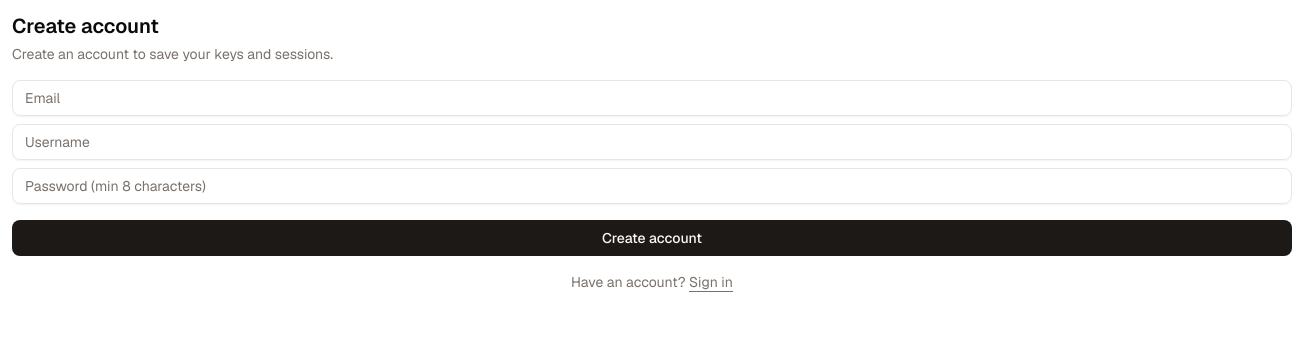
Scenario: RegisterForm › invalid input shows an inline error and submits neither mutation
This screenshot has width=1304, height=345.
In the field labelled "Email": coordinates (652, 98) top-left (12, 80), bottom-right (1292, 116), type "ada@example.com"
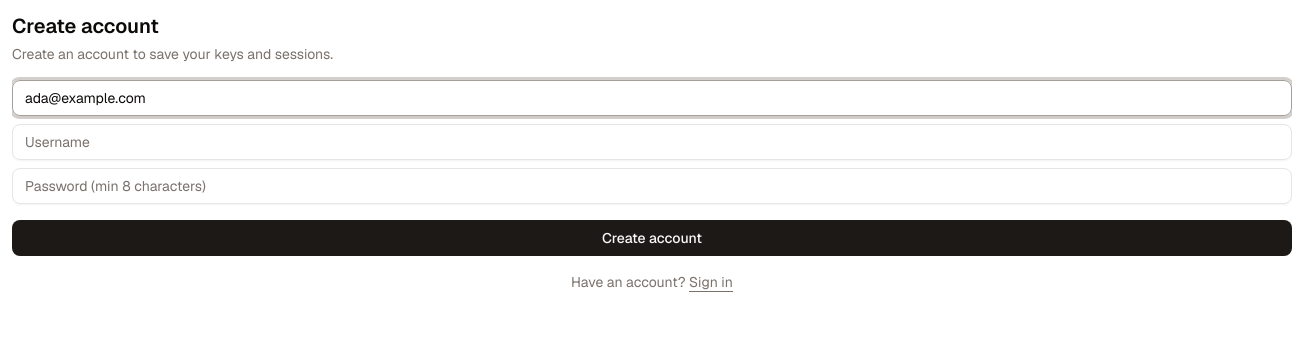
In the field labelled "Username": coordinates (652, 142) top-left (12, 124), bottom-right (1292, 160), type "ab"
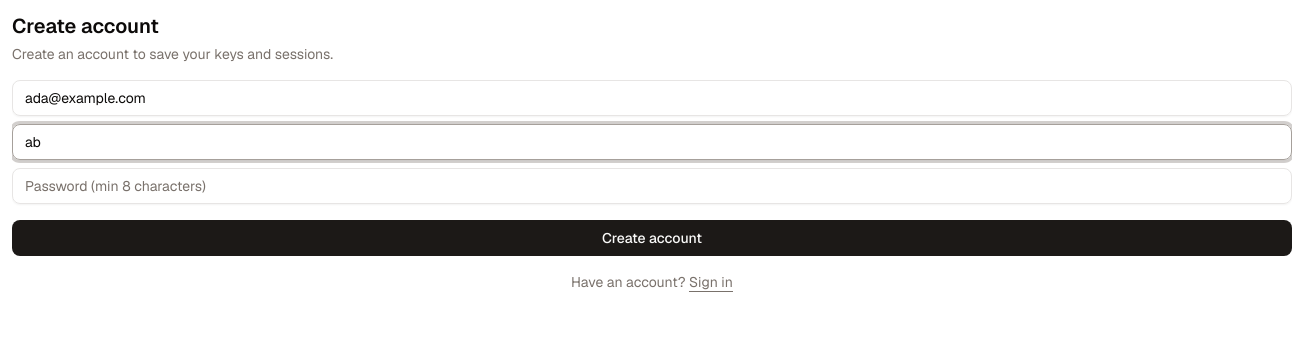
In the password field labelled "Password": coordinates (652, 186) top-left (12, 168), bottom-right (1292, 204), type "secret123"
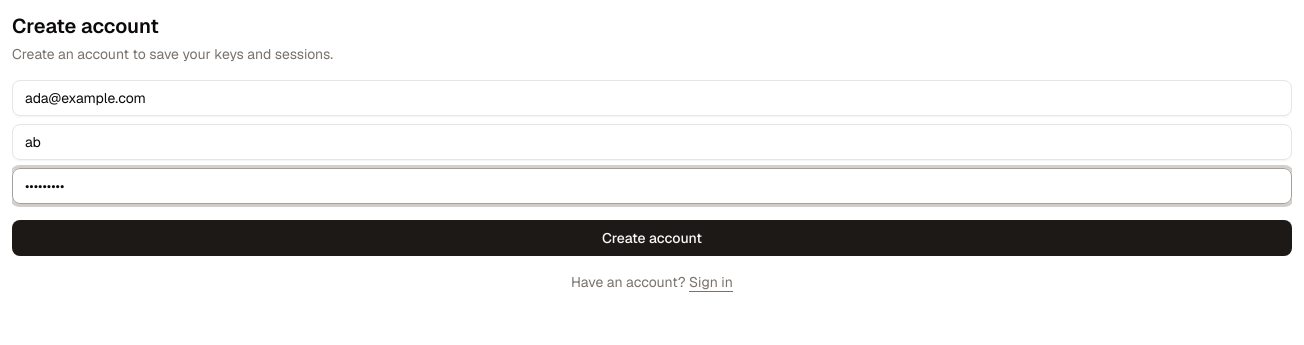
Click the button "Create account": coordinates (652, 238) top-left (12, 220), bottom-right (1292, 256)
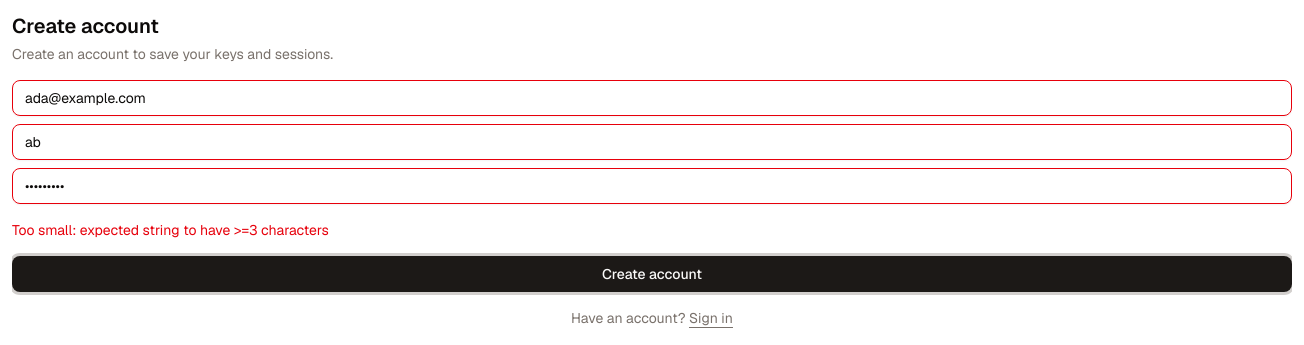
Now the message is shown, box top-left (12, 221), bottom-right (329, 239)
